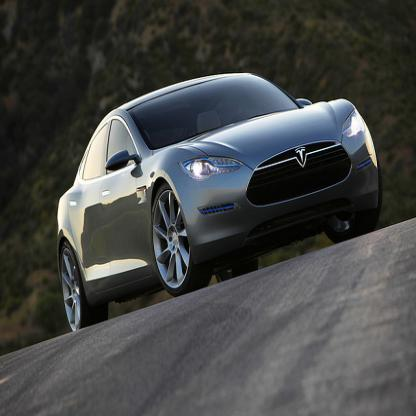Vehicle: (53, 72, 383, 331)
